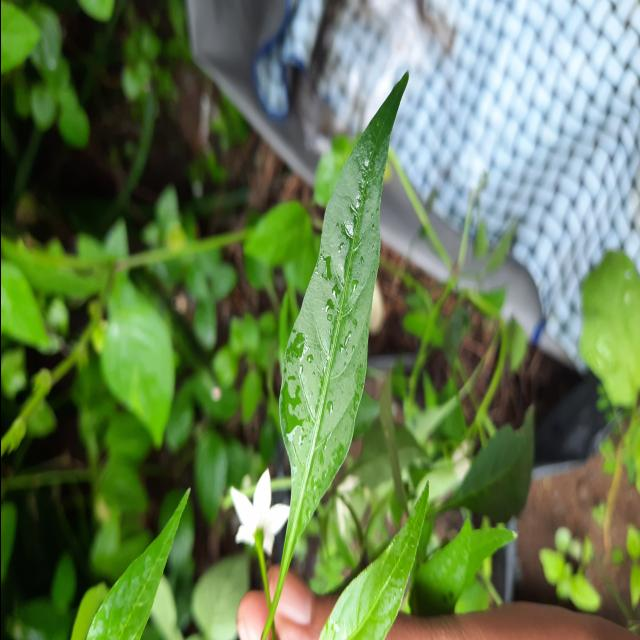sehat: (256, 69, 418, 544)
